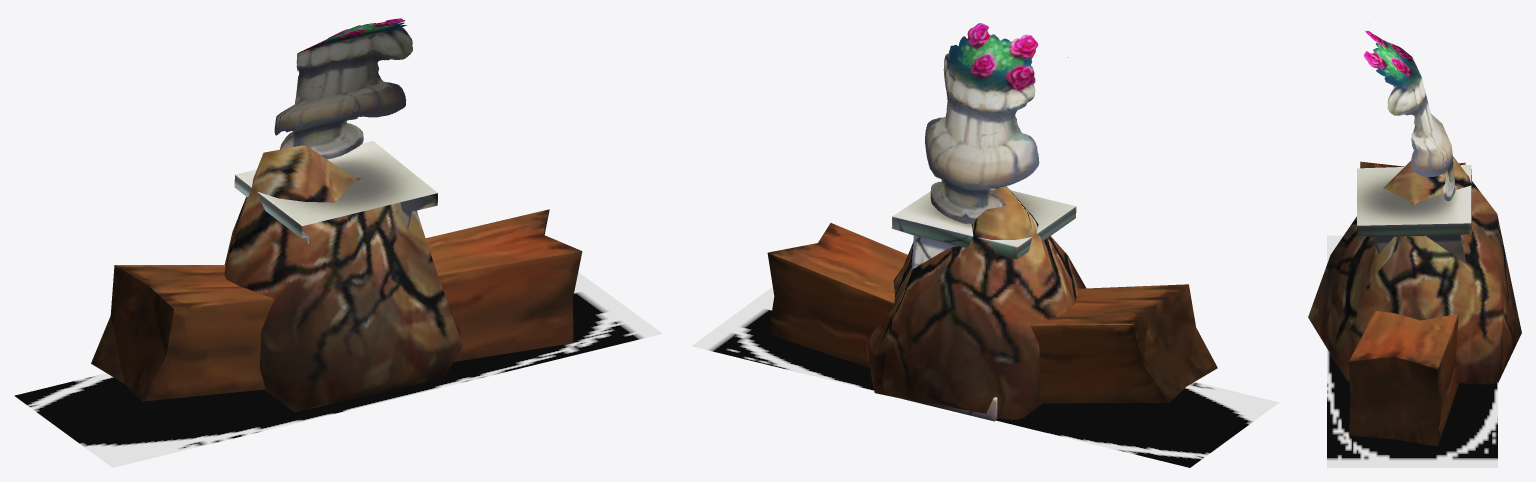
Rendered from Gimmick_Break_Wood01.fbx.
3 renders of one model, left to right at view 1: azimuth 30°, elevation 25°; view 2: azimuth 150°, elevation 25°; view 3: azimuth 270°, elevation 25°, orthographic. The views are drawn at different scales.
Visible parts, largest first — view 1: Gimmick_Break_Rock001, Gimmick_Break_wood001, gimmick_shadow, gimmick_break04; view 2: Gimmick_Break_wood001, Gimmick_Break_Rock001, gimmick_break04, gimmick_shadow; view 3: Gimmick_Break_Rock001, Gimmick_Break_wood001, gimmick_break04, gimmick_shadow.
Boxes of the visible parts, box(x1,y1,x2,y2) form: Gimmick_Break_Rock001: box(224, 145, 462, 412); Gimmick_Break_wood001: box(91, 209, 582, 401); gimmick_shadow: box(14, 272, 662, 467); gimmick_break04: box(234, 18, 437, 243); Gimmick_Break_wood001: box(767, 223, 1217, 403); Gimmick_Break_Rock001: box(866, 186, 1085, 419); gimmick_break04: box(888, 23, 1076, 421); gimmick_shadow: box(691, 287, 1279, 467); Gimmick_Break_Rock001: box(1308, 156, 1521, 384); Gimmick_Break_wood001: box(1349, 161, 1465, 446); gimmick_break04: box(1357, 30, 1471, 263); gimmick_shadow: box(1327, 235, 1497, 467).
Bounding box in the file's own units: 3.15 × 2 × 1.22.
